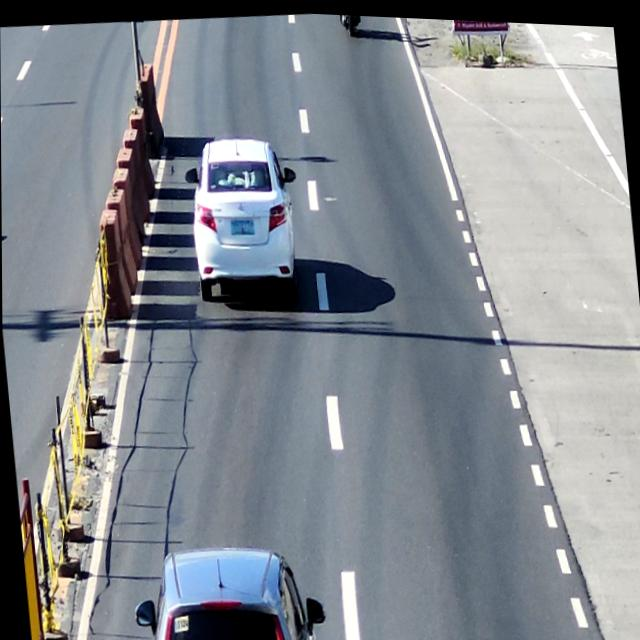Car: (129, 531, 320, 640), (184, 130, 300, 309)
License-Plate: (226, 210, 257, 236)
Motorcycle: (337, 12, 363, 39)
